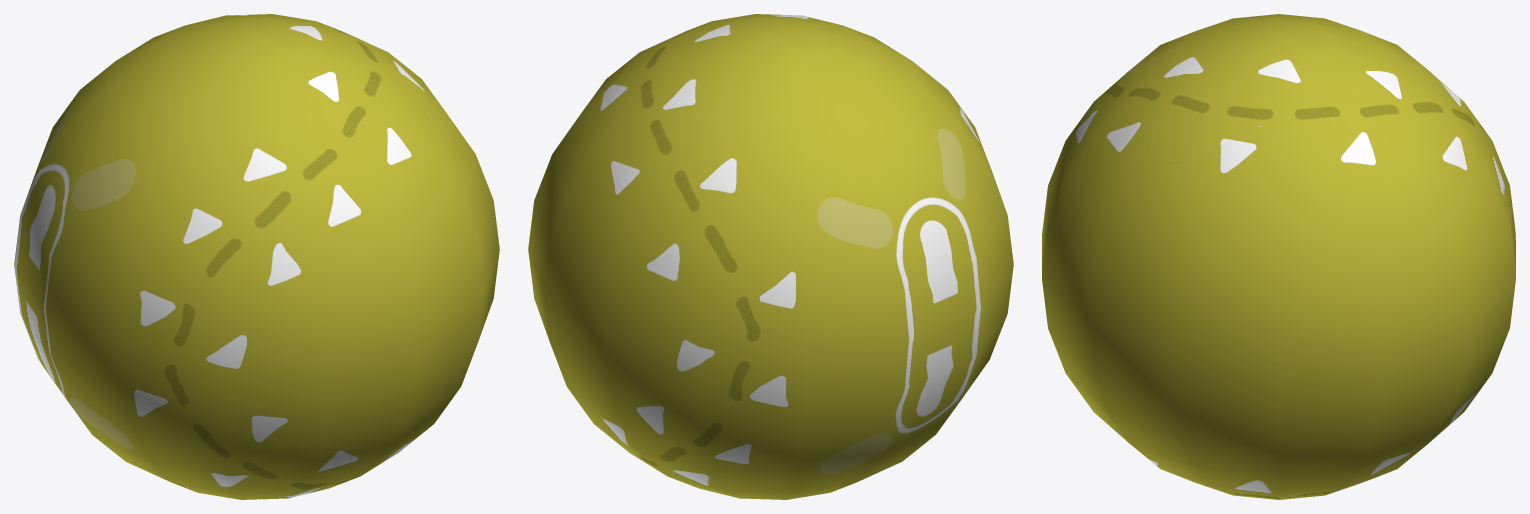
The model's file is Bong chay_2 1.fbx.
The picture shows the model from 3 angles, left to right: view 1: azimuth 30°, elevation 25°; view 2: azimuth 150°, elevation 25°; view 3: azimuth 270°, elevation 25°; orthographic projection.
Visible parts, largest first — view 1: Bong_chay; view 2: Bong_chay; view 3: Bong_chay.
Boxes of the visible parts, x1,y1,x2,y2 form: Bong_chay: (14, 14, 499, 499); Bong_chay: (528, 14, 1013, 499); Bong_chay: (1042, 14, 1515, 499).
Bounding box in the file's own units: 2 × 2 × 1.95.
1 material, 1 textured.
